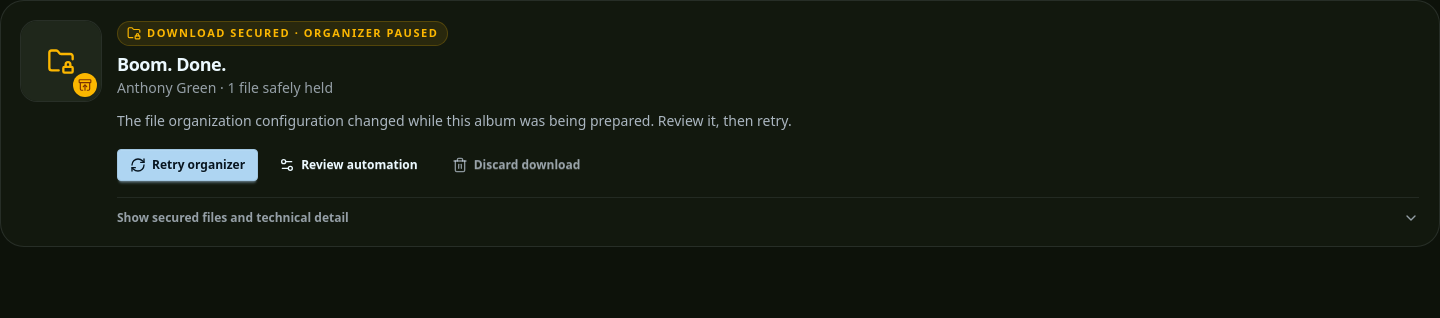
Scenario: ManagementHoldCard.svelte › shows retry progress inside the held card
This screenshot has width=1440, height=318.
Click the button "Retry organizer".
click(188, 165)  # box [117,149,258,181]
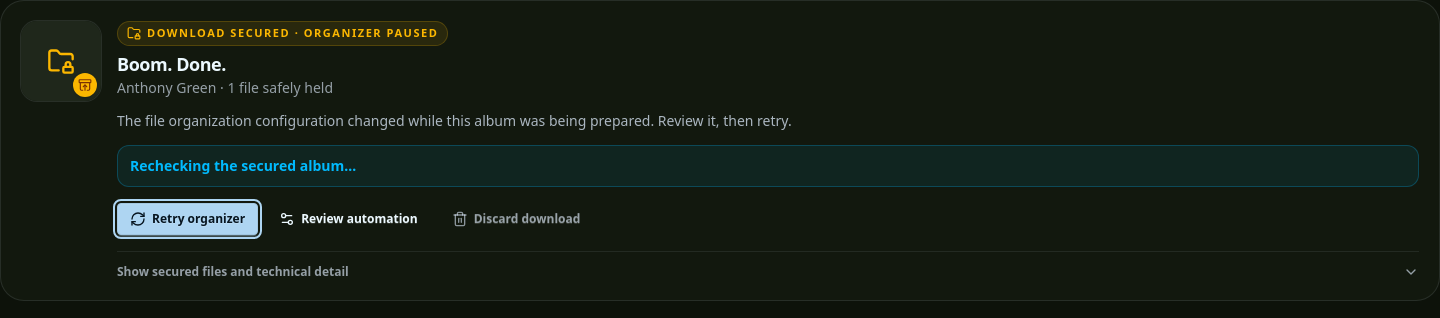
Result: the message reads "Rechecking the secured album…" at [130,156,356,175]
